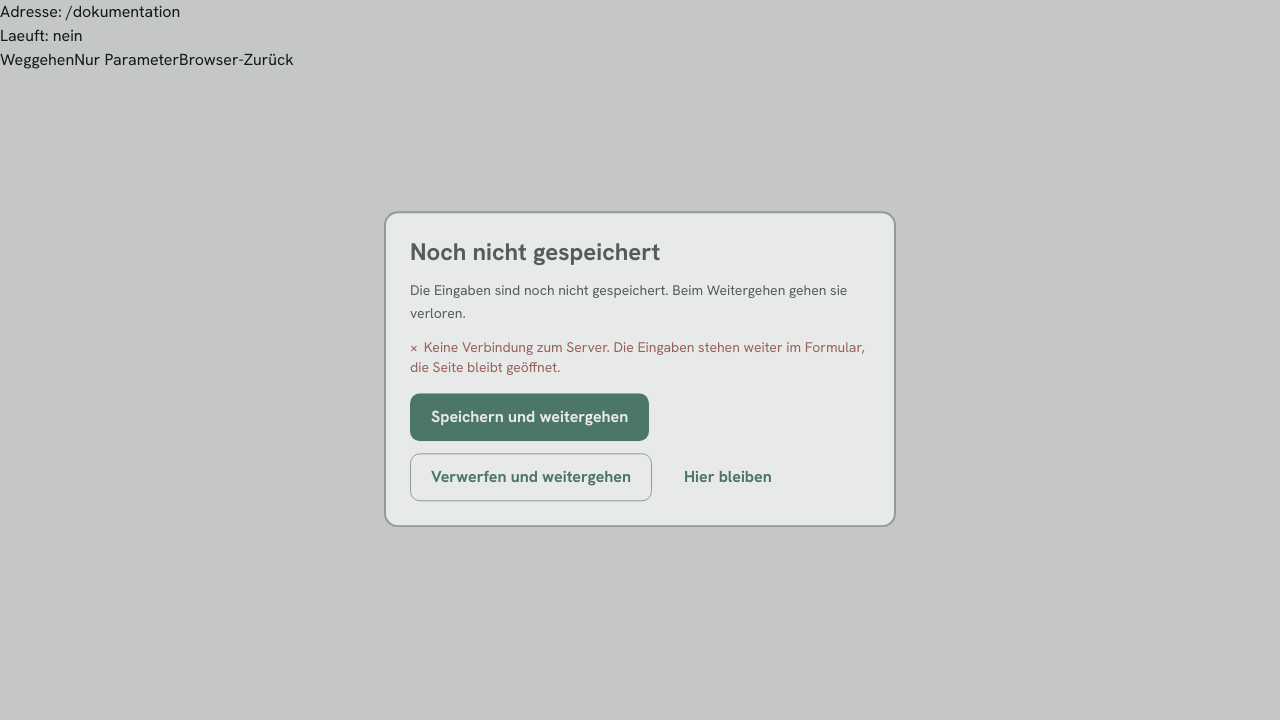
Test: Textverlustschutz: eigene Texte fuer Formulare ohne Dokumentation › bleibt ohne eigene Texte beim Wortlaut der Dokumentation
Click the link "Weggehen" at (37, 60), box [0,49,74,70]
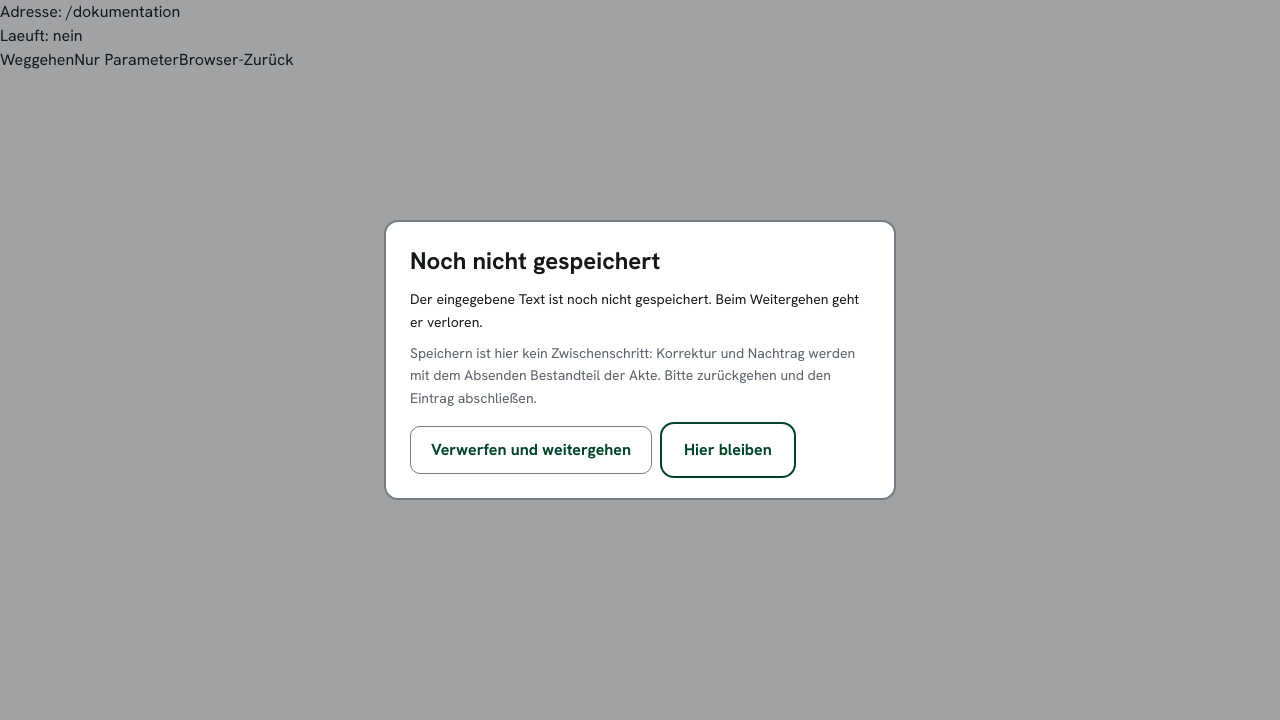
Expected: the element named "Ungespeicherte Dokumentation" shows "Der eingegebene Text ist noch nicht gespeichert. Beim Weitergehen geht er verloren.", [410,290,859,331]
Expected: the element named "Ungespeicherte Dokumentation" shows "Speichern ist hier kein Zwischenschritt: Korrektur und Nachtrag werden mit dem Absenden Bestandteil der Akte. Bitte zurückgehen und den Eintrag abschließen.", [410,344,855,407]
